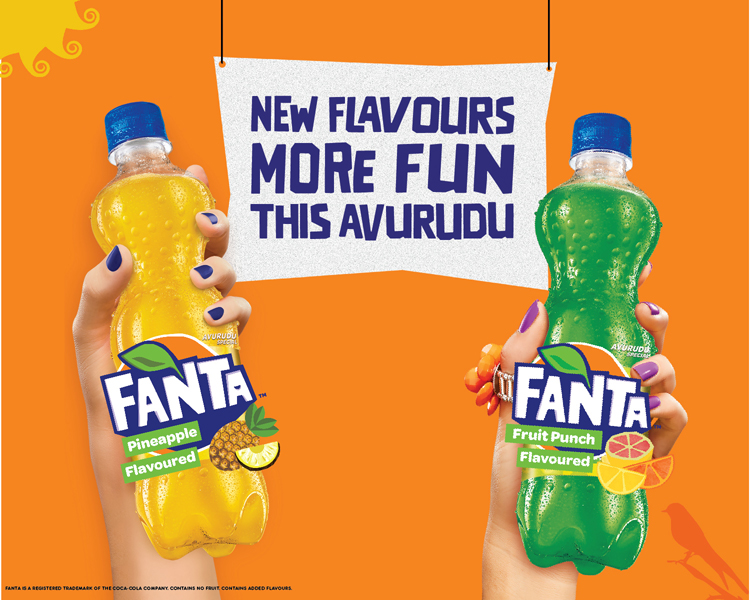Fanta: (83, 107, 274, 552)
